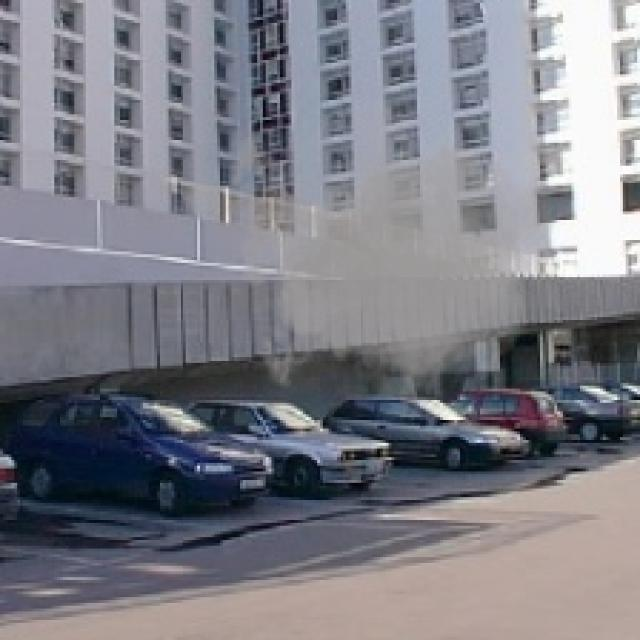smoke: (220, 83, 563, 440)
